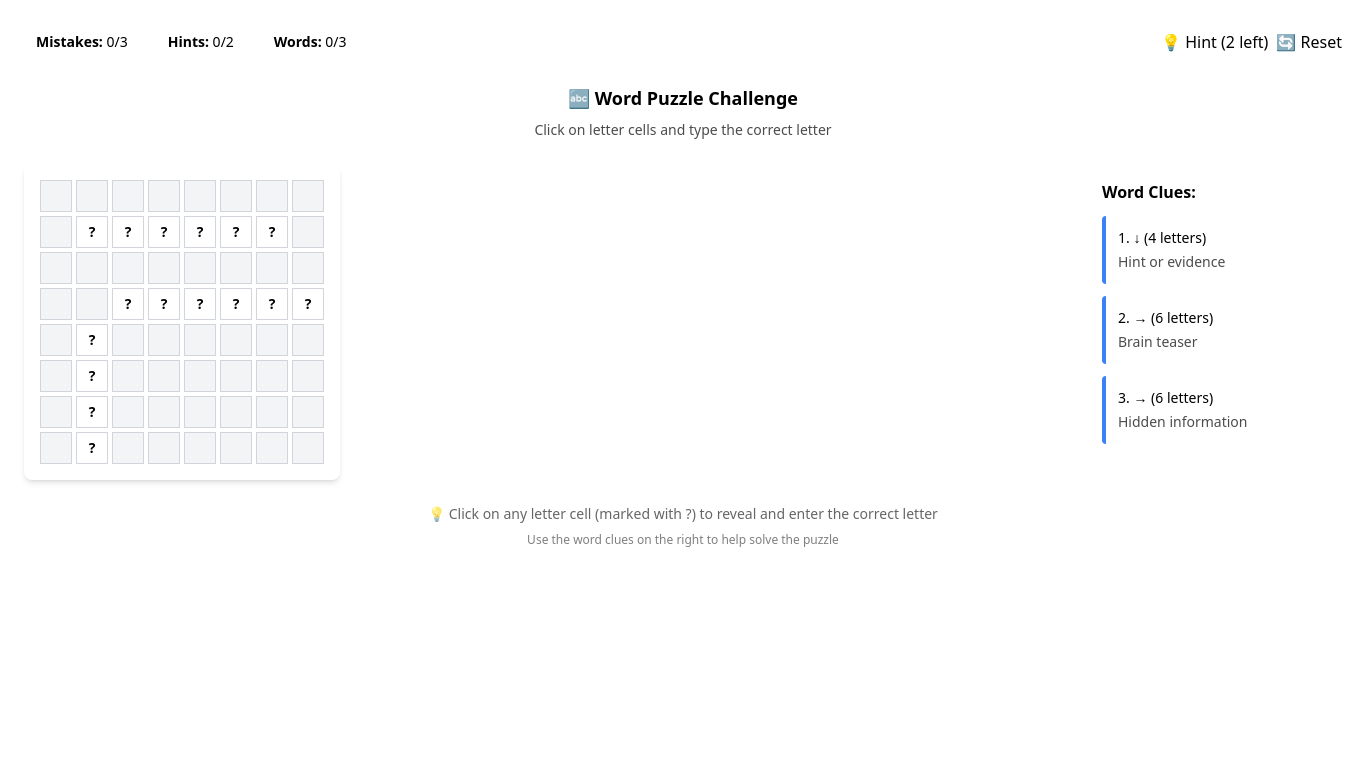
Test: WordPuzzleGame › Grid Interaction › should allow clicking on letter cells
Click the 1st text "?".
click(92, 232)  # box [76, 216, 108, 248]
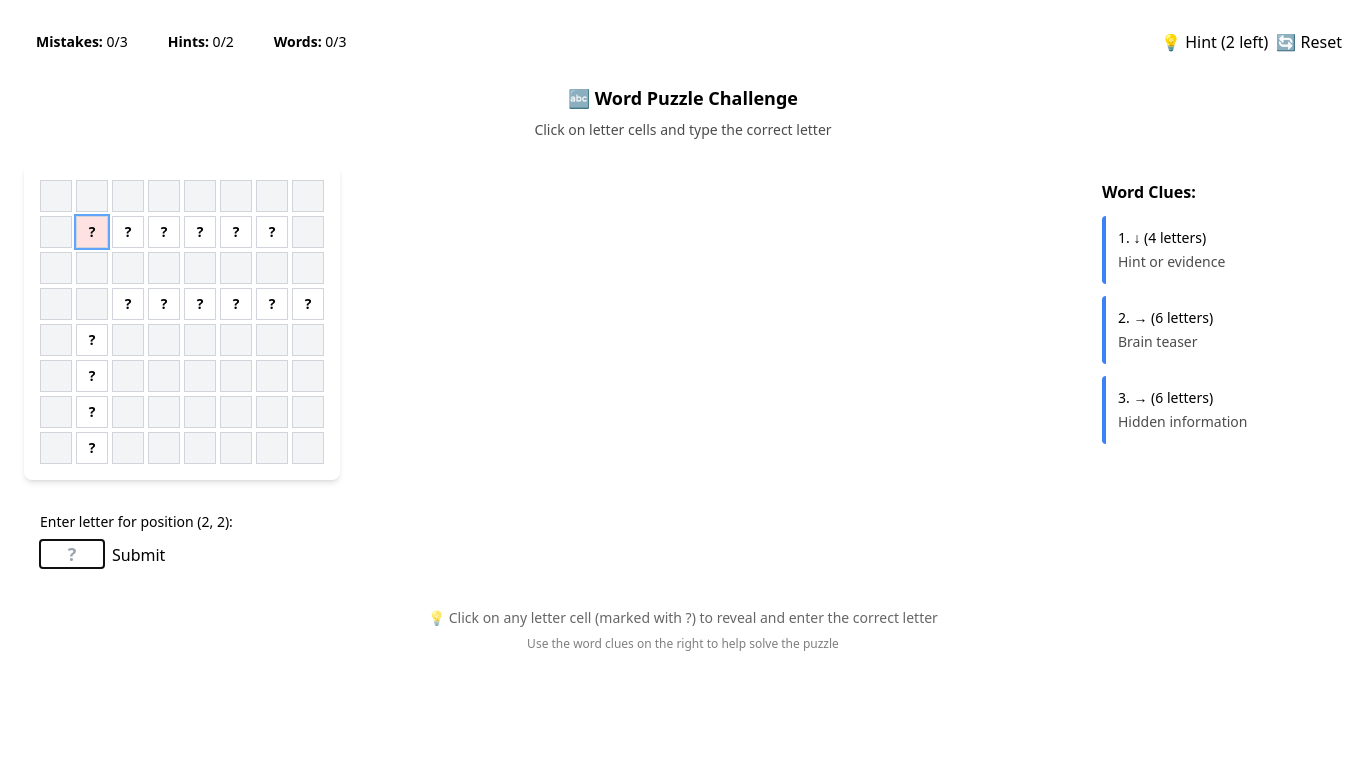
Now the text "Enter letter for position (2, 2):" is shown, box [40, 512, 233, 531]
Now the field with placeholder "?" is shown, box [40, 540, 104, 568]
